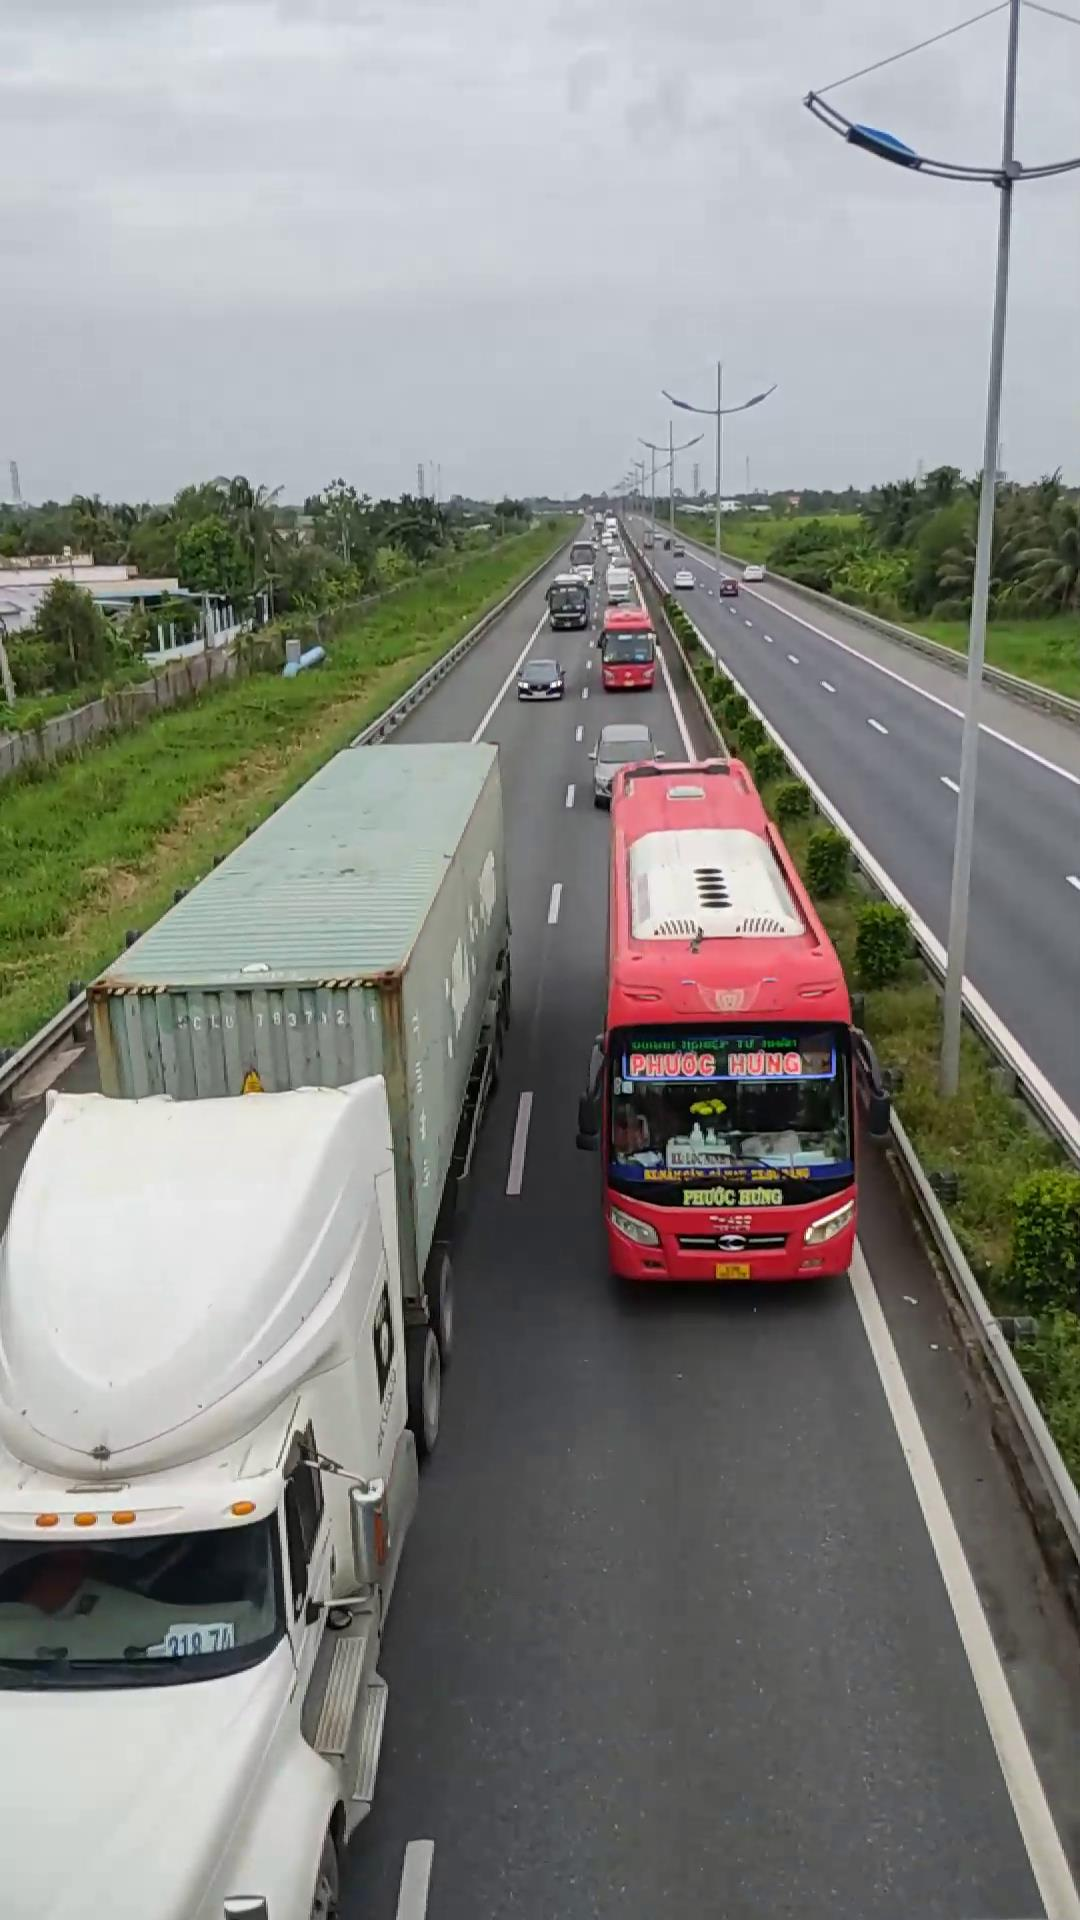bus: (587, 749, 867, 1288)
container: (0, 730, 514, 1920)
